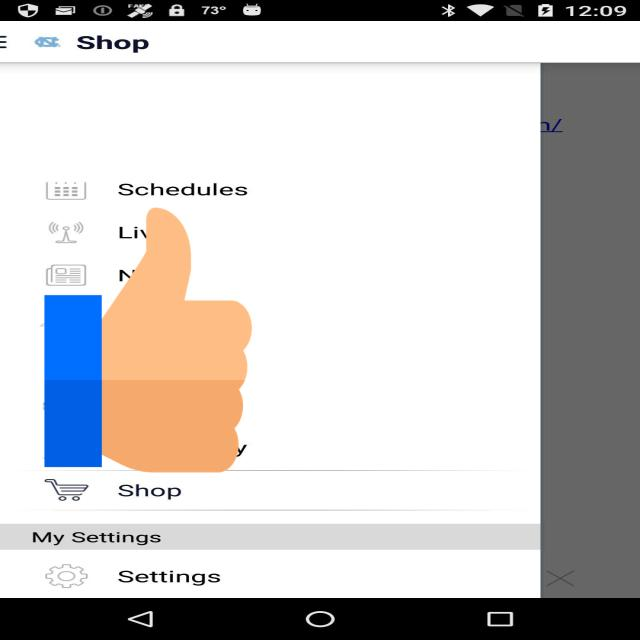privacy zuckering: (44, 201, 252, 479)
